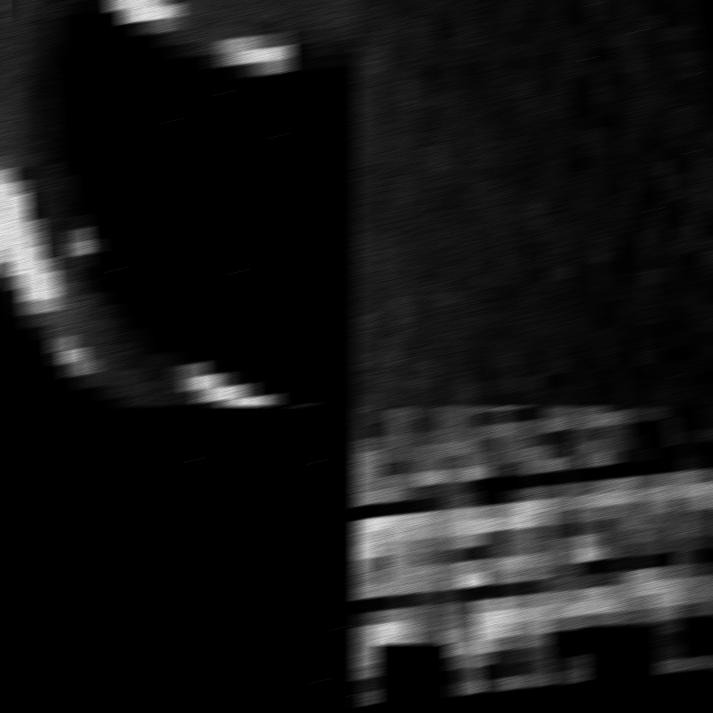Airbag: (353, 0, 713, 405), (0, 0, 358, 405)
